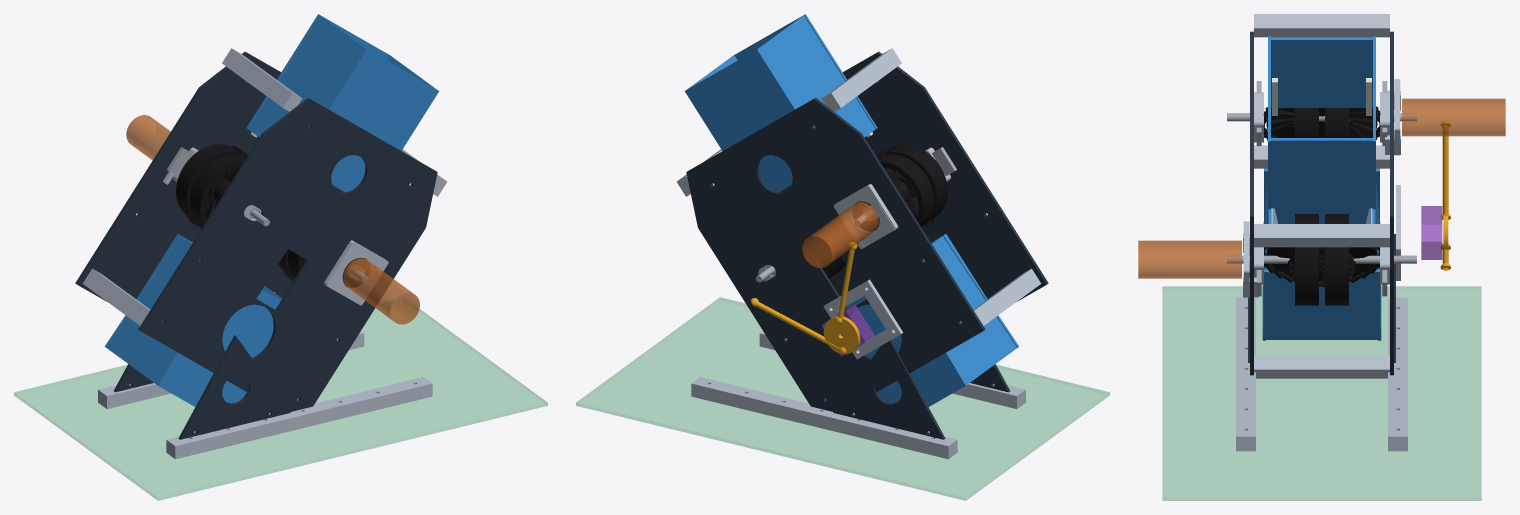
The model's file is biobuzz_launcher_pollen.glb.
3 views of the same model, side by side, from view 1: azimuth 30°, elevation 25°; view 2: azimuth 150°, elevation 25°; view 3: azimuth 270°, elevation 25° (orthographic). The views are drawn at different scales.
Visible parts, largest first — view 1: main_side_plate_-1, 00_chassis_xy_reference, main_side_plate_+1, output_sidewall_-1, base_rail_-1, output_roof, angle_gusset_-1, input_sidewall_-1, input_roof, motor_envelope_lower, gecko_upper_1, gecko_upper_2 (+6 smaller); view 2: main_side_plate_+1, 00_chassis_xy_reference, main_side_plate_-1, output_sidewall_+1, base_rail_+1, output_roof, angle_gusset_+1, input_roof, input_sidewall_+1, motor_envelope_upper, gecko_upper_1, gecko_upper_2 (+8 smaller); view 3: 00_chassis_xy_reference, output_floor, output_roof, input_floor, motor_envelope_upper, motor_envelope_lower, crossmember_128_-118, crossmember_128_118, crossmember_-162_-118, base_rail_-1, base_rail_+1, gecko_lower_1 (+20 smaller).
Part boxes in pixels (<box>): main_side_plate_-1: <box>138,98,437,411</box>; 00_chassis_xy_reference: <box>14,308,547,500</box>; main_side_plate_+1: <box>75,51,344,301</box>; output_sidewall_-1: <box>327,48,439,192</box>; base_rail_-1: <box>166,377,432,459</box>; output_roof: <box>248,15,368,137</box>; angle_gusset_-1: <box>178,335,290,439</box>; input_sidewall_-1: <box>157,290,280,406</box>; input_roof: <box>107,234,200,384</box>; motor_envelope_lower: <box>343,258,419,324</box>; gecko_upper_1: <box>189,153,247,228</box>; gecko_upper_2: <box>176,144,246,226</box>; main_side_plate_+1: <box>686,98,985,411</box>; 00_chassis_xy_reference: <box>576,297,1109,500</box>; main_side_plate_-1: <box>779,51,1048,301</box>; output_sidewall_+1: <box>684,48,796,192</box>; base_rail_+1: <box>691,377,957,459</box>; output_roof: <box>755,15,875,137</box>; angle_gusset_+1: <box>833,340,945,439</box>; input_roof: <box>923,234,1016,384</box>; input_sidewall_+1: <box>846,296,966,406</box>; motor_envelope_upper: <box>802,202,878,268</box>; gecko_upper_1: <box>877,144,947,226</box>; gecko_upper_2: <box>876,154,934,228</box>; 00_chassis_xy_reference: <box>1162,286,1481,500</box>; output_floor: <box>1268,138,1375,208</box>; output_roof: <box>1268,37,1375,107</box>; input_floor: <box>1264,269,1379,339</box>; motor_envelope_upper: <box>1402,98,1505,136</box>; motor_envelope_lower: <box>1138,240,1241,278</box>; crossmember_128_-118: <box>1254,224,1389,247</box>; crossmember_128_118: <box>1254,14,1389,37</box>; crossmember_-162_-118: <box>1254,355,1389,378</box>; base_rail_-1: <box>1236,297,1255,451</box>; base_rail_+1: <box>1388,297,1407,451</box>; gecko_lower_1: <box>1264,214,1355,305</box>.
Size of the model in its own units: 500 by 434 by 368.
